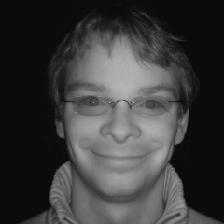happy: (35, 6, 215, 210)
